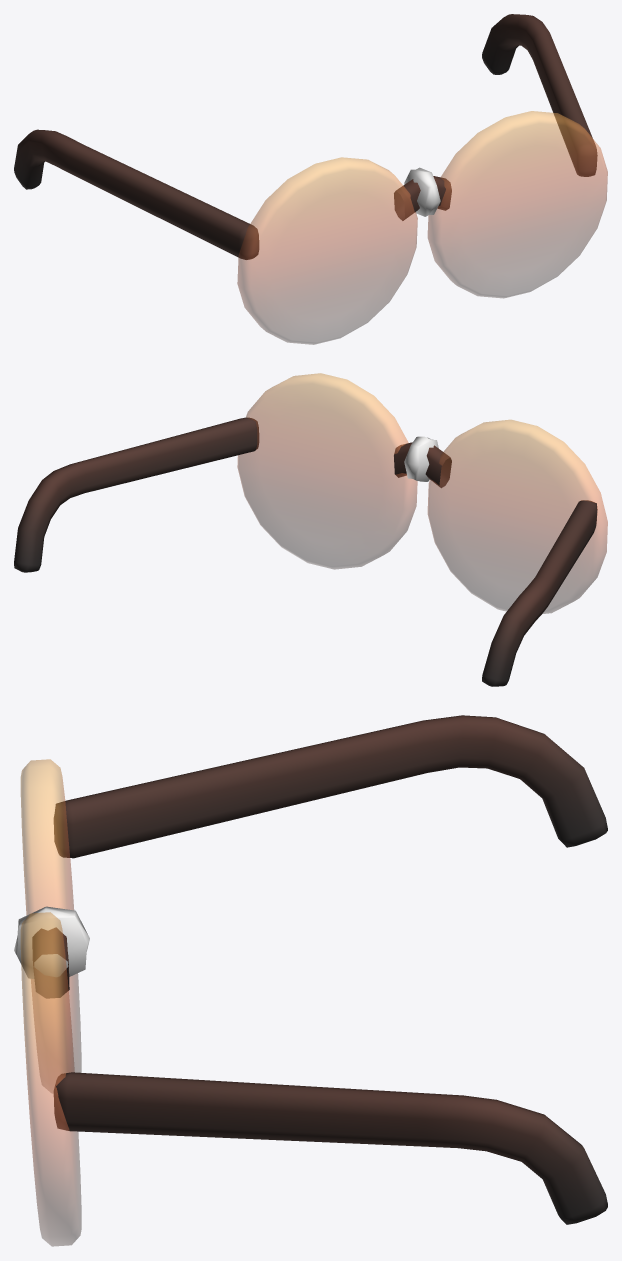
File: Glasses_16.glb
3 renders of one model, top to bottom at view 1: azimuth 30°, elevation 25°; view 2: azimuth 150°, elevation 25°; view 3: azimuth 270°, elevation 25°, orthographic. The views are drawn at different scales.
Visible parts, largest first — view 1: Glasses_16; view 2: Glasses_16; view 3: Glasses_16.
Boxes of the visible parts, <box> form: Glasses_16: <box>14,14,607,344</box>; Glasses_16: <box>14,373,607,686</box>; Glasses_16: <box>14,715,607,1246</box>.
Bounding box in the file's own units: 0.6107 × 0.2147 × 0.3854.
Materials: 2 (2 with a texture image).
